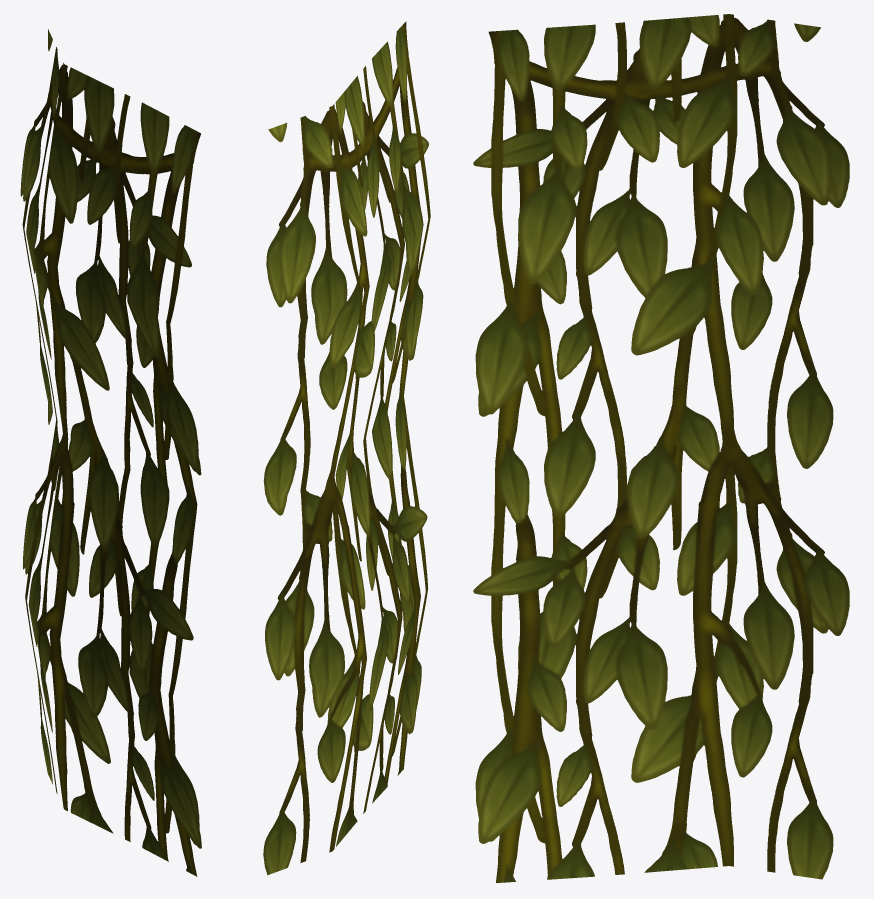
Rendered from Vine #2.fbx.
3 views of the same model, side by side, from view 1: azimuth 30°, elevation 25°; view 2: azimuth 150°, elevation 25°; view 3: azimuth 270°, elevation 25° (orthographic). The views are drawn at different scales.
Parts seen in each view (by area): view 1: Vine #2; view 2: Vine #2; view 3: Vine #2.
Boxes of the visible parts, x1,y1,x2,y2 form: Vine #2: (20, 29, 201, 876); Vine #2: (263, 21, 430, 875); Vine #2: (473, 14, 849, 882).
Bounding box in the file's own units: 20.53 × 240 × 100.
1 material, 1 textured.
